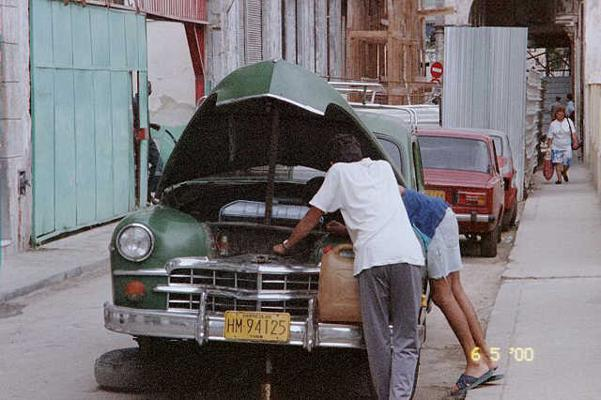person: (272, 132, 423, 397)
